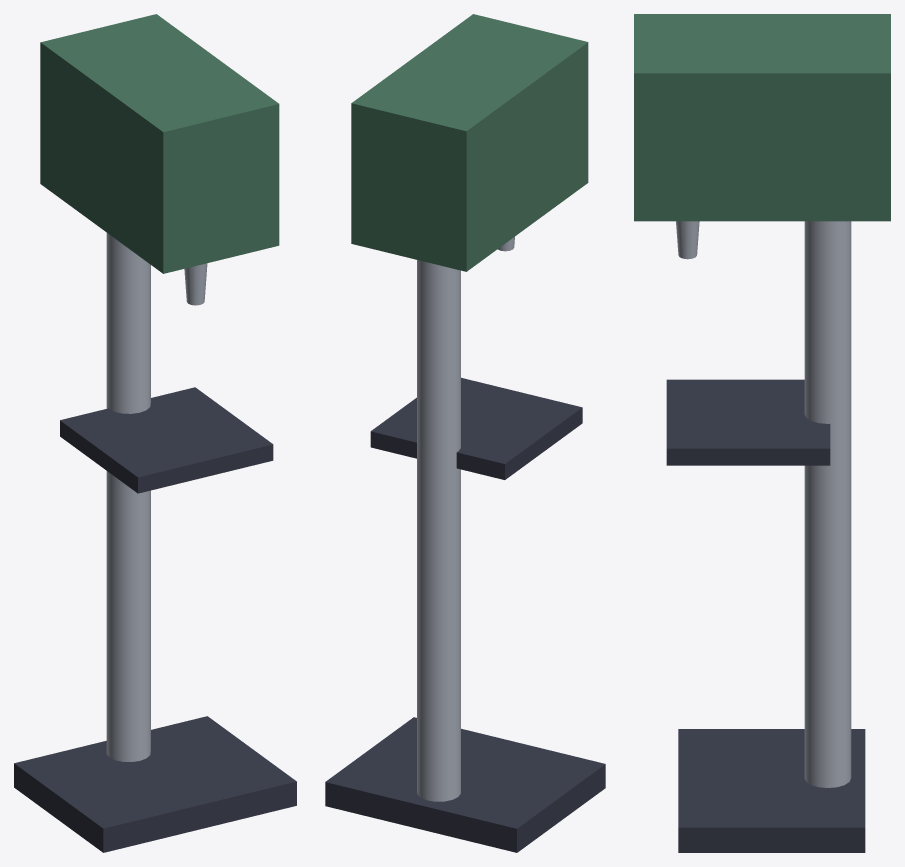
Rendered from ind-019.glb.
3 renders of one model, left to right at view 1: azimuth 30°, elevation 25°; view 2: azimuth 150°, elevation 25°; view 3: azimuth 270°, elevation 25°, orthographic. The views are drawn at different scales.
Parts seen in each view (by area): view 1: head, base, column, table, chuck; view 2: head, column, base, table; view 3: head, column, base, table, chuck.
Boxes of the visible parts, x1,y1,x2,y2 form: head: [40, 14, 279, 273]; base: [14, 716, 296, 852]; column: [106, 233, 150, 761]; table: [60, 387, 273, 493]; chuck: [184, 263, 207, 305]; head: [351, 14, 588, 271]; column: [417, 260, 460, 801]; base: [325, 717, 605, 852]; table: [370, 377, 582, 479]; head: [634, 14, 890, 221]; column: [804, 221, 851, 787]; base: [678, 729, 865, 852]; table: [666, 379, 830, 465]; chuck: [676, 221, 699, 259].
Bounding box in the file's own units: 0.5 × 1.79 × 0.55.
